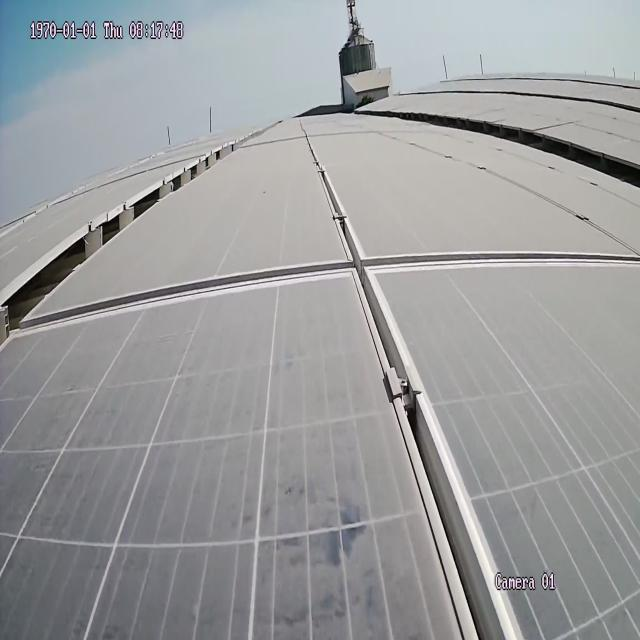interior panel: (312, 166, 521, 636), (56, 259, 329, 324), (379, 245, 631, 275)
outher panel: (0, 141, 237, 358), (368, 104, 637, 193)
